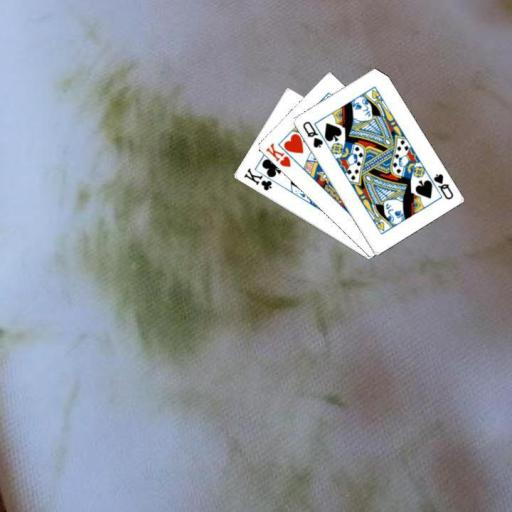KC: (241, 165, 280, 192)
KH: (263, 140, 293, 169)
QS: (300, 118, 325, 149), (431, 171, 455, 201)
